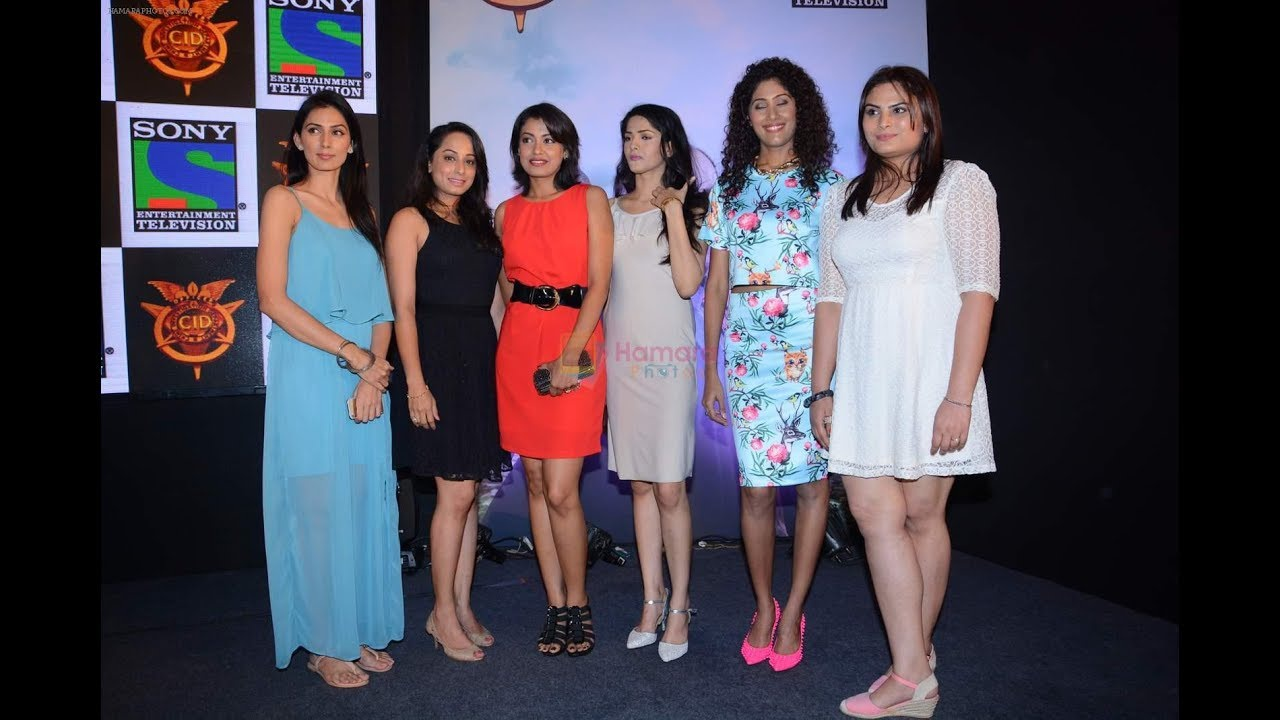bad: (854, 87, 916, 149), (296, 118, 348, 170), (435, 141, 487, 193), (746, 90, 798, 141), (616, 122, 660, 166), (516, 127, 559, 170)
